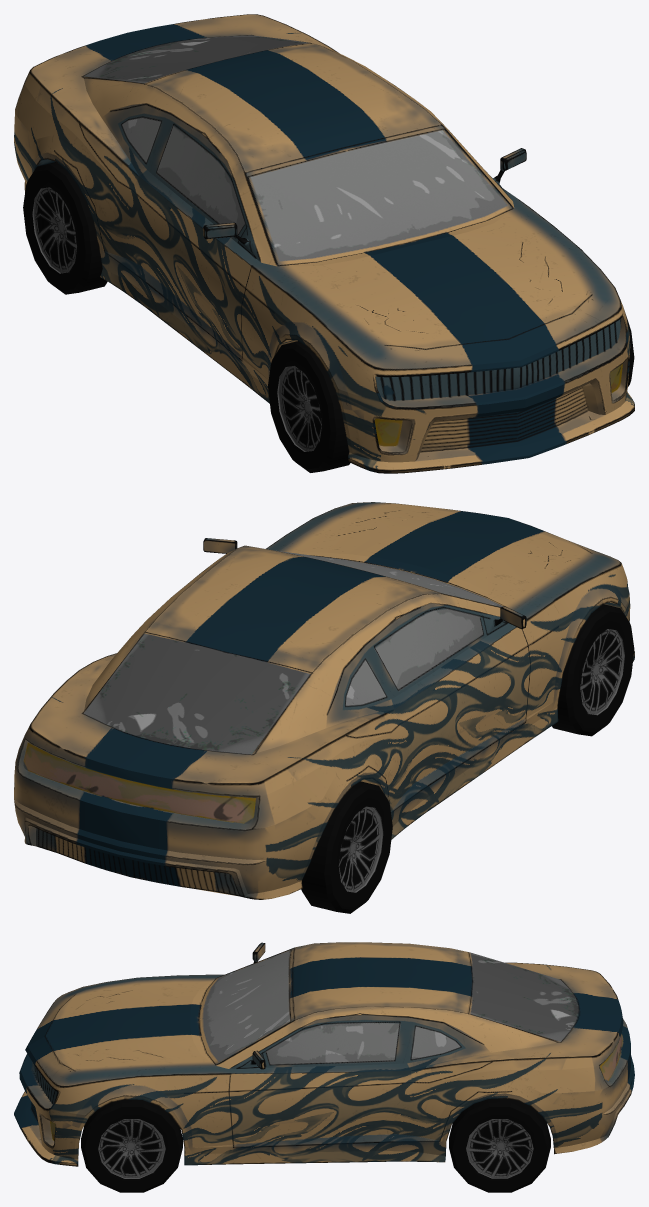
The model's file is Dodge.fbx.
3 views of the same model, one above another, from view 1: azimuth 30°, elevation 25°; view 2: azimuth 150°, elevation 25°; view 3: azimuth 270°, elevation 25° (orthographic). The views are drawn at different scales.
Parts seen in each view (by area): view 1: Dodge, Dodge_Teker; view 2: Dodge, Dodge_Teker; view 3: Dodge, Dodge_Teker.
Boxes of the visible parts, left/top/right/bottom form: Dodge: left=14, top=14, right=634, bottom=473; Dodge_Teker: left=23, top=162, right=634, bottom=472; Dodge: left=14, top=502, right=634, bottom=899; Dodge_Teker: left=301, top=604, right=634, bottom=913; Dodge: left=14, top=942, right=634, bottom=1166; Dodge_Teker: left=81, top=1098, right=550, bottom=1192.
Size of the model in its own units: 187 by 122 by 413.
Materials: 2 (2 with a texture image).
